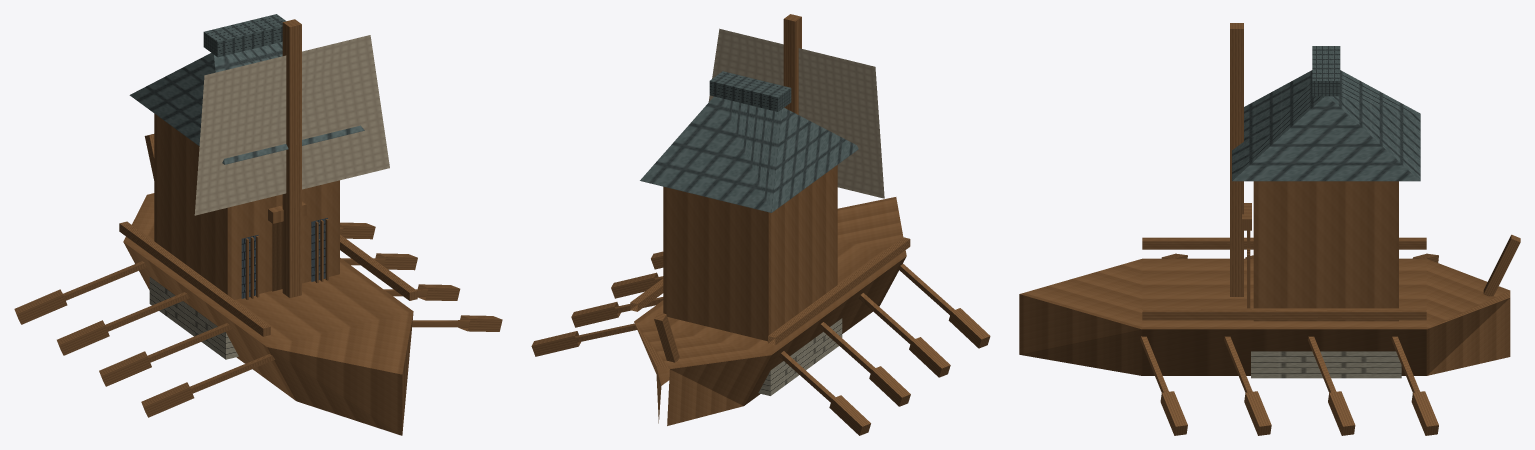
File: unit-WARSHIP-lod1.glb
The picture shows the model from 3 angles, left to right: view 1: azimuth 30°, elevation 25°; view 2: azimuth 150°, elevation 25°; view 3: azimuth 270°, elevation 25°; orthographic projection. The views are drawn at different scales.
Size of the model in its own units: 0.7343 by 0.65 by 0.8982.
1 material, 1 textured.
